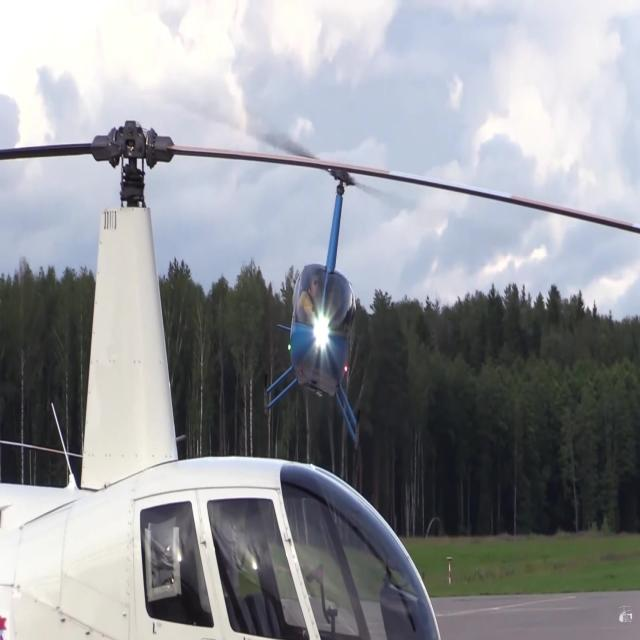CIV_HELO: (262, 166, 364, 454)
